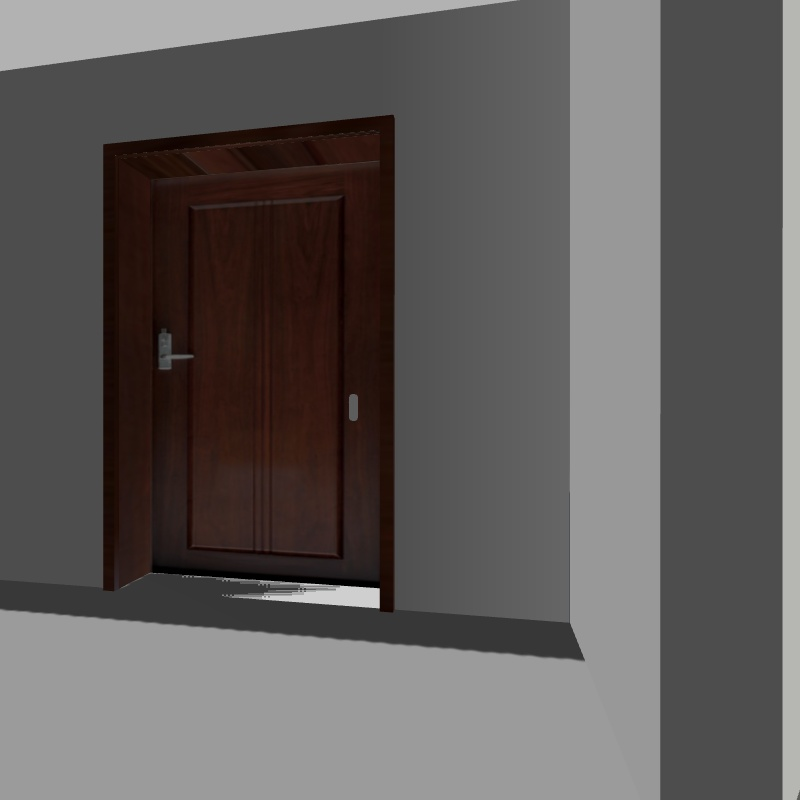handle: (145, 320, 201, 375)
